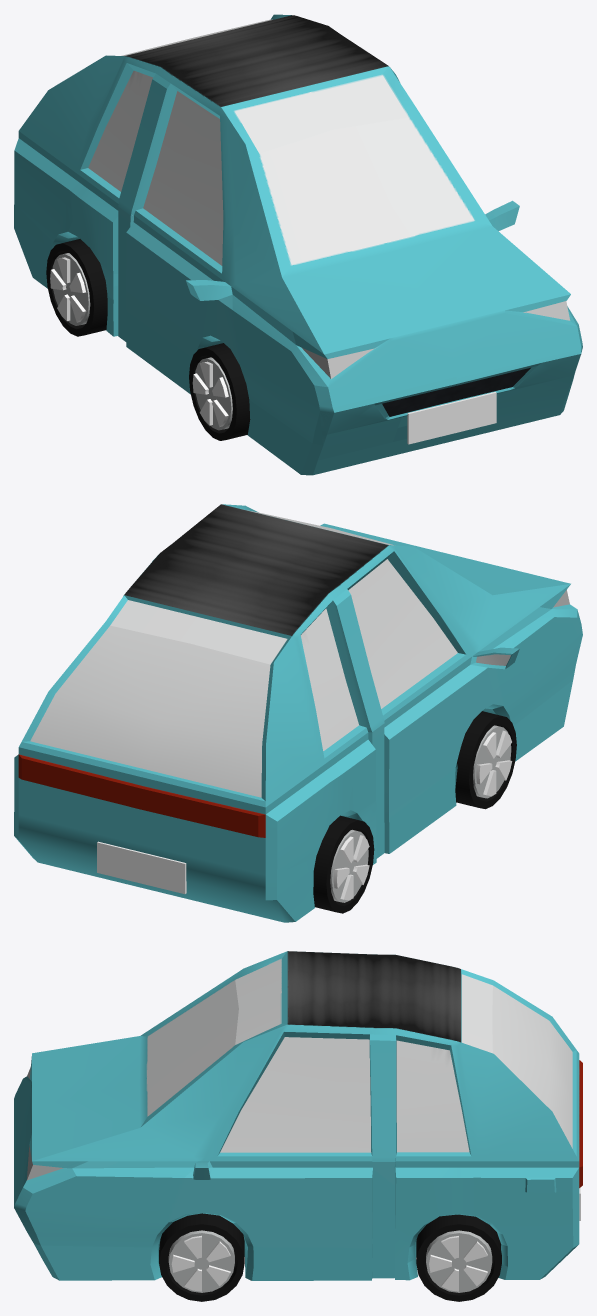
The model's file is EV-pj6lpQ8C.glb.
3 views of the same model, one above another, from view 1: azimuth 30°, elevation 25°; view 2: azimuth 150°, elevation 25°; view 3: azimuth 270°, elevation 25° (orthographic). The views are drawn at different scales.
Size of the model in its own units: 1.98 by 1.64 by 3.34.
6 materials, 6 textured.
